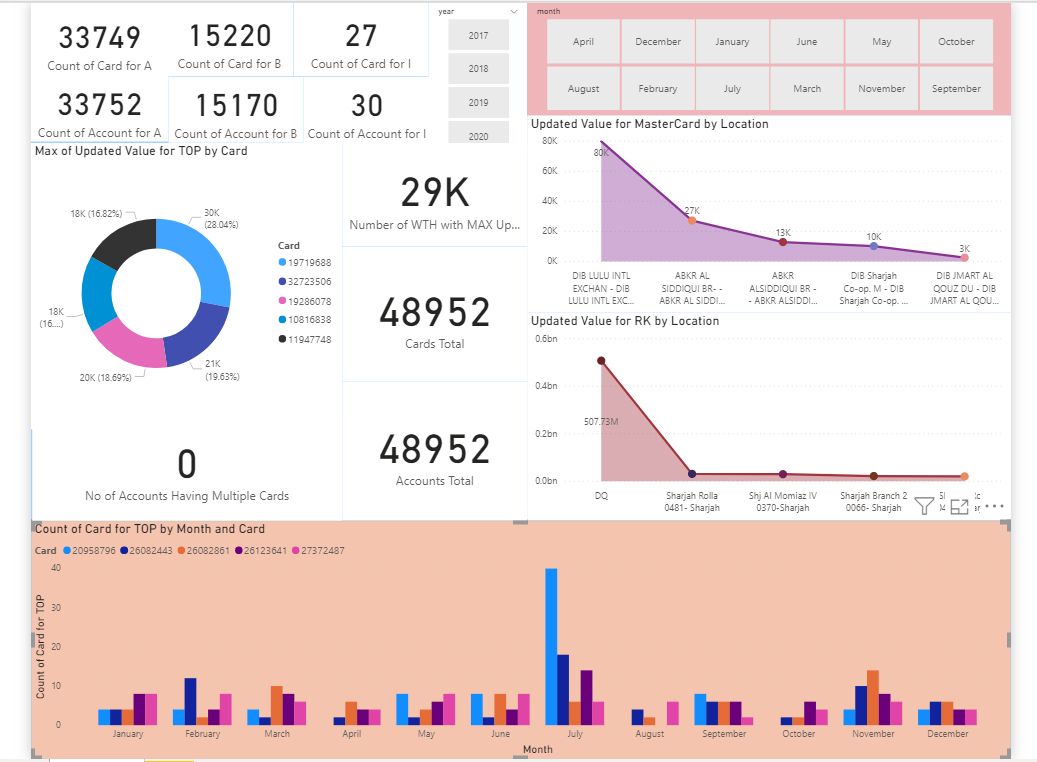

This screenshot's page, from the dashboard's own definition file:
{"tool":"powerbi","page":{"name":"Page 1","canvas":[1296,1000],"ordinal":0},"visuals":[{"type":"card","fields":{"Values":["CSV.Count of Card for I"]},"box":[346.8,0,178.4,97],"z":0},{"type":"card","fields":{"Values":["CSV.Count of Card for B"]},"box":[178.4,0,168.4,97],"z":1000},{"type":"card","fields":{"Values":["CSV.Count of Account for A"]},"box":[0,97.5,181.8,86],"z":2000},{"type":"card","fields":{"Values":["CSV.Count of Account for B"]},"box":[181.2,97,178.4,87],"z":3000},{"type":"card","fields":{"Values":["CSV.Count of Account for I"]},"box":[360.3,97.5,168.6,87.6],"z":4000},{"type":"slicer","fields":{"Values":["CSV.year"]},"box":[525.6,0,130.6,203.3],"z":5000},{"type":"slicer","fields":{"Values":["CSV.month"]},"box":[656.2,0,639.7,148.8],"z":6000},{"type":"donutChart","fields":{"Category":["CSV.Card"],"Y":["CSV.Max of Updated Value for TOP"]},"box":[0,185.1,411.6,378.5],"z":7000},{"type":"stackedAreaChart","fields":{"Category":["CSV.Location"],"Y":["CSV.Updated Value for RK"]},"box":[656.2,409.9,639.7,274.4],"z":8000},{"type":"areaChart","fields":{"Category":["CSV.Location"],"Y":["CSV.Updated Value for MasterCard"]},"box":[656.2,148.8,639.7,261.2],"z":9000},{"type":"card","fields":{"Values":["CSV.count"]},"box":[411.6,185.1,244.6,137.2],"z":10000},{"type":"clusteredColumnChart","fields":{"Y":["CSV.Count of Card for TOP"],"Series":["CSV.Card"],"Category":["CSV.Date.Variation.Date Hierarchy.Month"]},"box":[0,684.3,1295.9,315.7],"z":11000},{"type":"card","fields":{"Values":["CSV.Measure"]},"box":[411.6,500.8,244.6,183.5],"z":12000},{"type":"card","fields":{"Values":["CSV.Cards Total"]},"box":[411.6,322.3,244.6,178.5],"z":13000},{"type":"card","fields":{"Values":["CSV.No of Accounts Having Multiple Cards"]},"box":[1.7,542.1,409.9,142.1],"z":14000},{"type":"card","fields":{"Values":["CSV.Count of Card for A"]},"box":[0,0,181.8,102.5],"z":15000}]}

Visuals, with their boxes on the page's 1296x1000 design canvas (x1, y1, x2, y2). These are canvas units, not pixel positions in the 1037x762 screenshot, which may show the page scaled, cropped or inside an application window:
card - CSV.Count of Card for I: (x1=347, y1=0, x2=525, y2=97)
card - CSV.Count of Card for B: (x1=178, y1=0, x2=347, y2=97)
card - CSV.Count of Account for A: (x1=0, y1=98, x2=182, y2=184)
card - CSV.Count of Account for B: (x1=181, y1=97, x2=360, y2=184)
card - CSV.Count of Account for I: (x1=360, y1=98, x2=529, y2=185)
slicer - CSV.year: (x1=526, y1=0, x2=656, y2=203)
slicer - CSV.month: (x1=656, y1=0, x2=1296, y2=149)
donutChart - CSV.Card x CSV.Max of Updated Value for TOP: (x1=0, y1=185, x2=412, y2=564)
stackedAreaChart - CSV.Location x CSV.Updated Value for RK: (x1=656, y1=410, x2=1296, y2=684)
areaChart - CSV.Location x CSV.Updated Value for MasterCard: (x1=656, y1=149, x2=1296, y2=410)
card - CSV.count: (x1=412, y1=185, x2=656, y2=322)
clusteredColumnChart - CSV.Count of Card for TOP x CSV.Card: (x1=0, y1=684, x2=1296, y2=1000)
card - CSV.Measure: (x1=412, y1=501, x2=656, y2=684)
card - CSV.Cards Total: (x1=412, y1=322, x2=656, y2=501)
card - CSV.No of Accounts Having Multiple Cards: (x1=2, y1=542, x2=412, y2=684)
card - CSV.Count of Card for A: (x1=0, y1=0, x2=182, y2=102)
